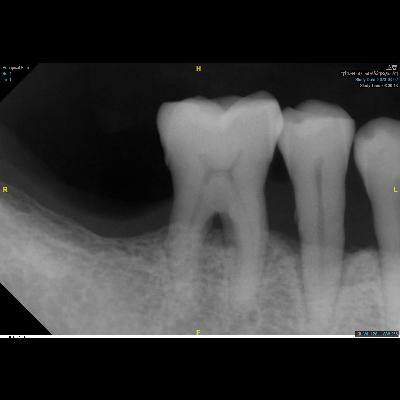tooth: (273, 97, 357, 335)
